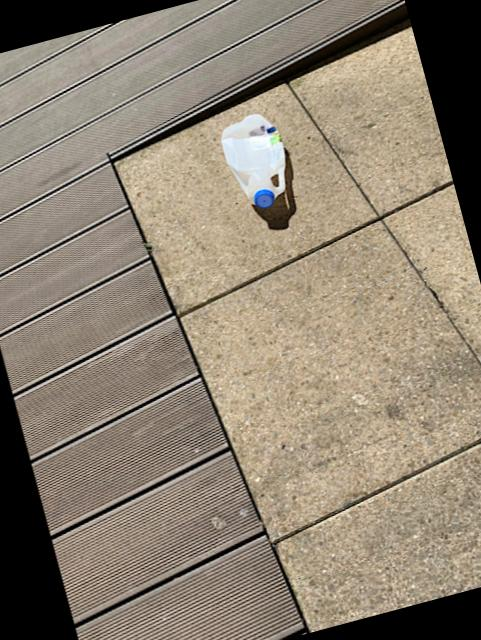plastic: (222, 112, 285, 206)
